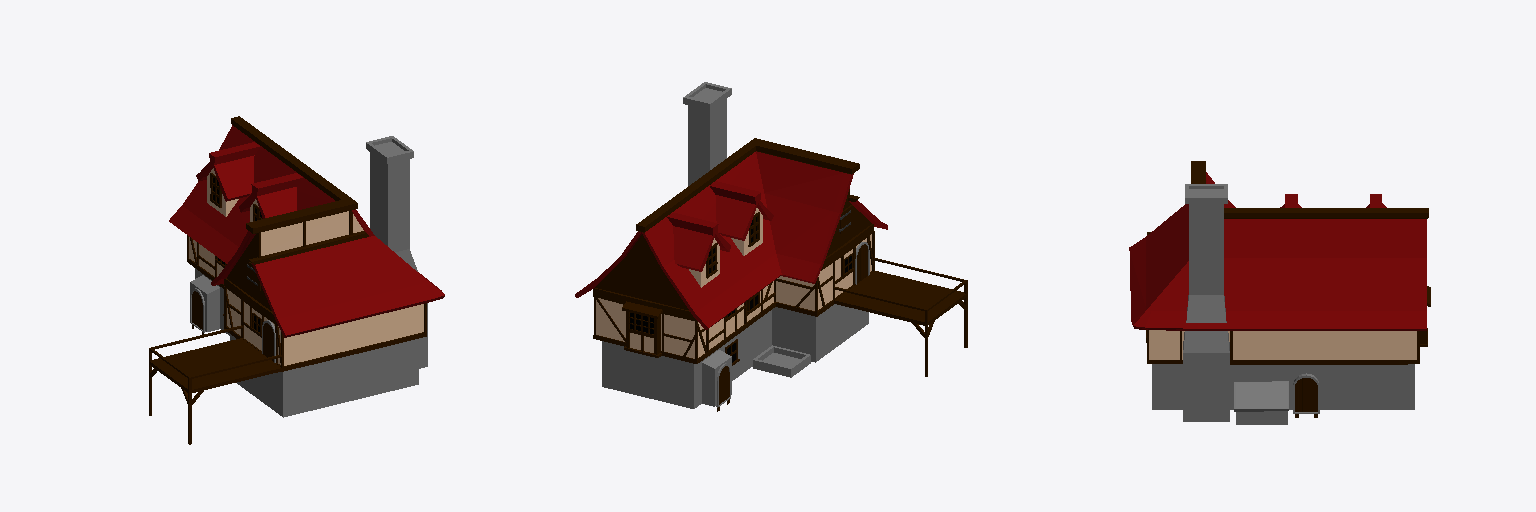
The model's file is TavernUVs.obj.
3 renders of one model, left to right at view 1: azimuth 30°, elevation 25°; view 2: azimuth 150°, elevation 25°; view 3: azimuth 270°, elevation 25°, orthographic.
Visible parts, largest first — view 1: DoorArch3; view 2: DoorArch3; view 3: DoorArch3.
Boxes of the visible parts, <box> form: DoorArch3: <box>149,116,444,444</box>; DoorArch3: <box>575,82,967,411</box>; DoorArch3: <box>1129,161,1430,424</box>.
Bounding box in the file's own units: 32.51 × 26.24 × 31.85.